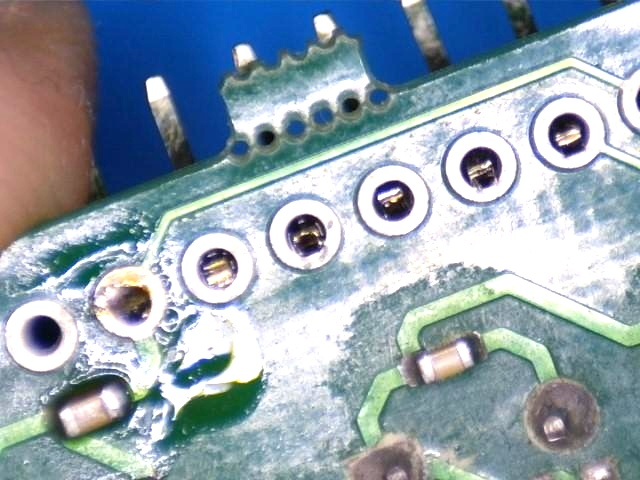pcb_defect: (94, 266, 163, 336)
